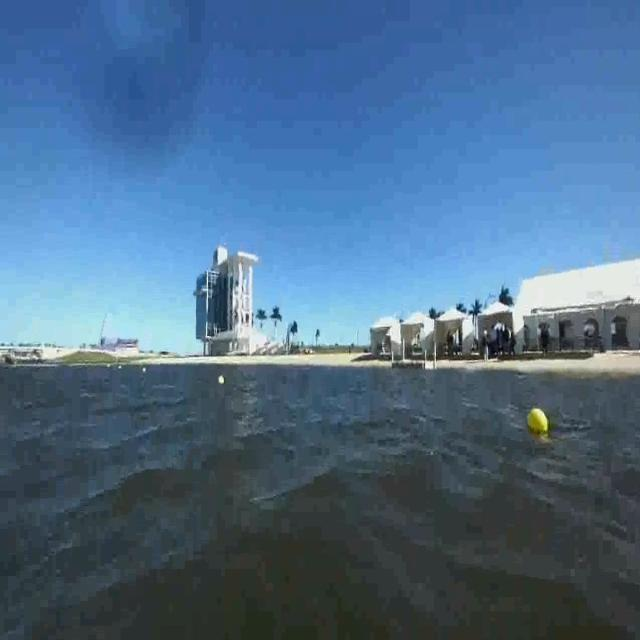yellow-buoy: (528, 409, 551, 435)
